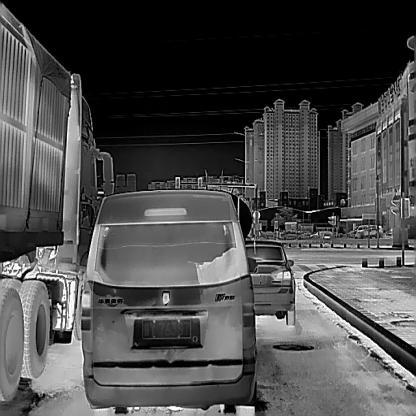car: (0, 0, 114, 401), (80, 189, 256, 415), (244, 239, 295, 325), (358, 226, 382, 239)
